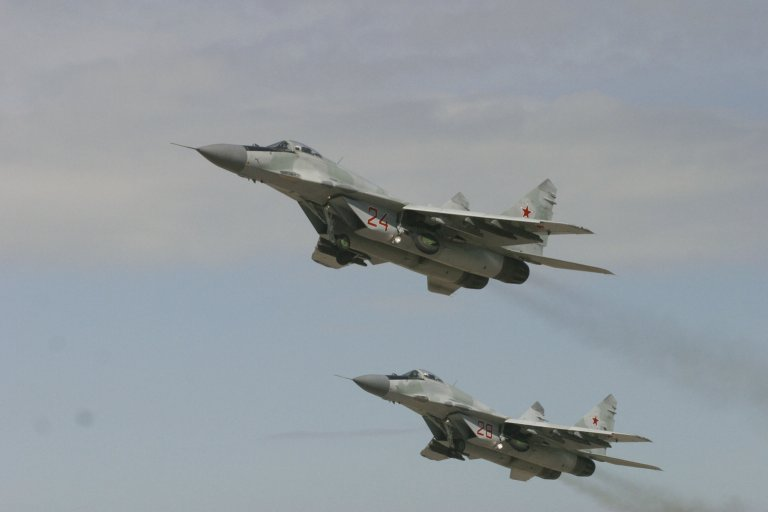Mig-29: (151, 97, 621, 323), (345, 344, 663, 492)
